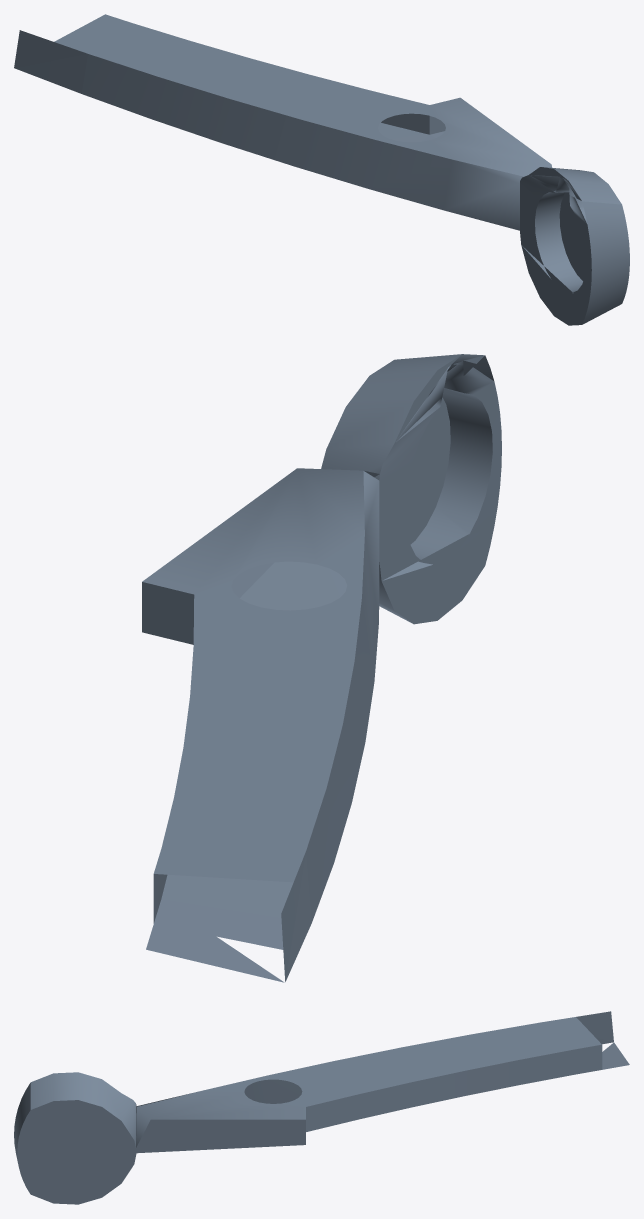
Rendered from original-2.obj.
The picture shows the model from 3 angles, top to bottom: view 1: azimuth 30°, elevation 25°; view 2: azimuth 150°, elevation 25°; view 3: azimuth 270°, elevation 25°; orthographic projection. The views are drawn at different scales.
Visible parts, largest first — view 1: #ID5; view 2: #ID5; view 3: #ID5.
Part boxes in pixels (x1,y1,x2,y2): #ID5: (14,14,629,325); #ID5: (142,354,501,982); #ID5: (14,1011,629,1204).
Size of the model in its own units: 0.3218 by 0.1708 by 0.7605.
